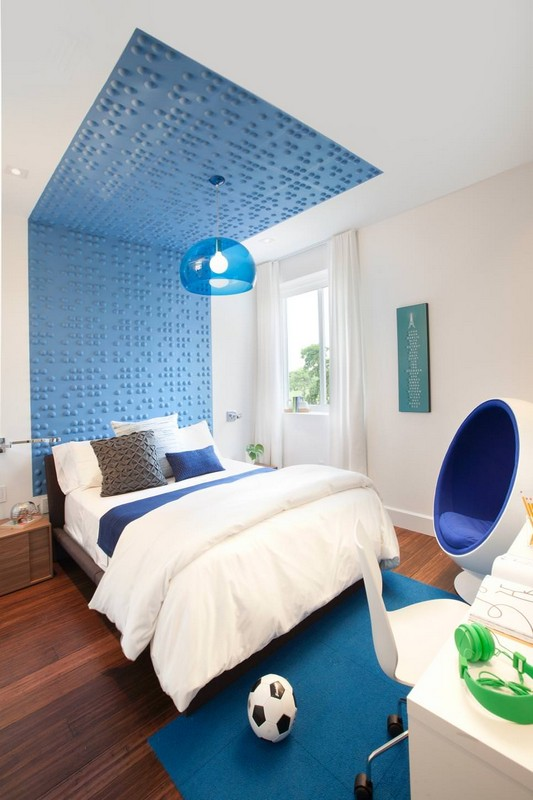bed: (48, 411, 404, 696)
chair: (354, 518, 474, 703)
lamp: (174, 230, 266, 298)
stool: (4, 512, 55, 591)
